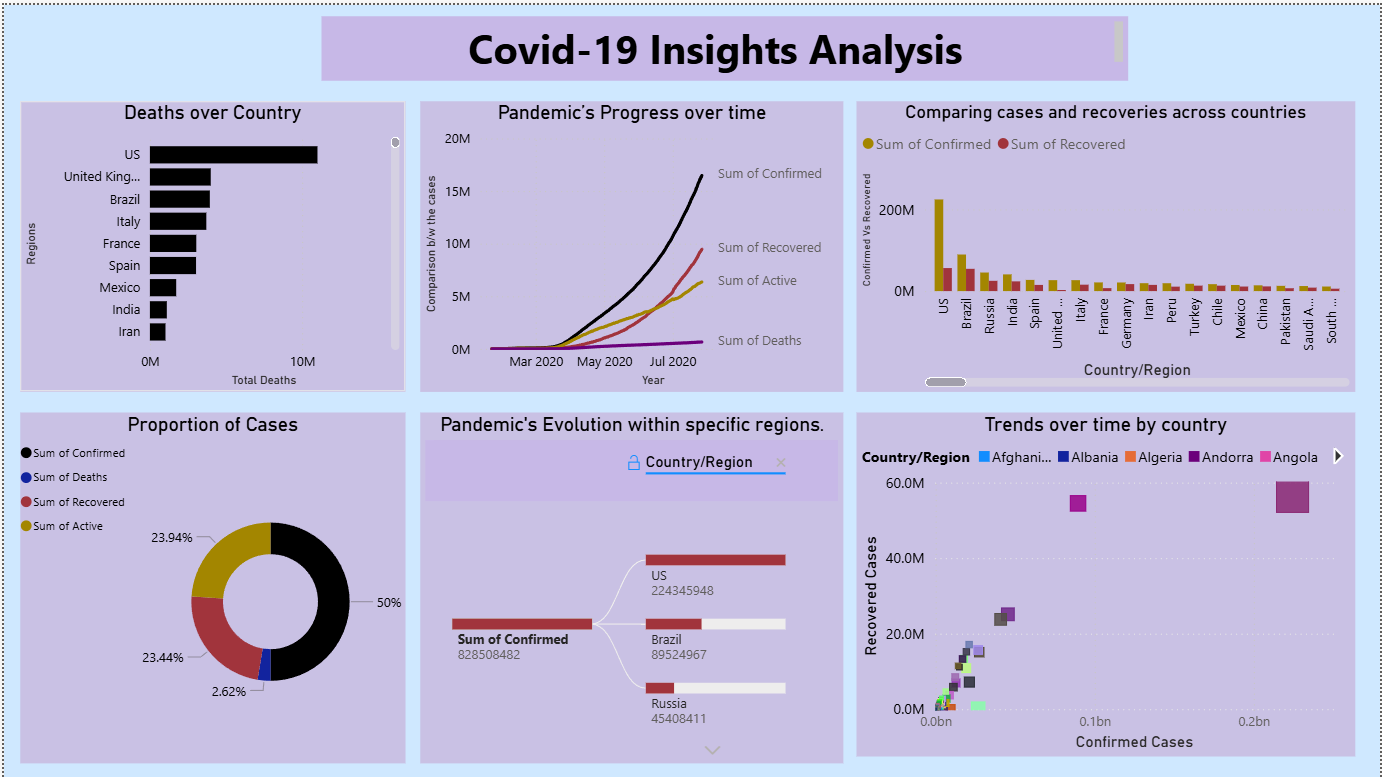

The dashboard page shown, as its layout file describes it:
{"tool":"powerbi","page":{"name":"Page 1","canvas":[1280,720],"ordinal":0},"visuals":[{"type":"lineChart","title":"Pandemic’s Progress over time","fields":{"Y":["Sum(covid_19_clean_complete.Confirmed)","Sum(covid_19_clean_complete.Recovered)","Sum(covid_19_clean_complete.Active)","Sum(covid_19_clean_complete.Deaths)"],"Category":["covid_19_clean_complete.Date.Variation.Date Hierarchy.Year","covid_19_clean_complete.Date.Variation.Date Hierarchy.Quarter","covid_19_clean_complete.Date.Variation.Date Hierarchy.Month","covid_19_clean_complete.Date.Variation.Date Hierarchy.Day"]},"box":[387,89.2,393.8,270.3],"z":0},{"type":"donutChart","title":"Proportion of Cases","fields":{"Y":["Sum(covid_19_clean_complete.Confirmed)","Sum(covid_19_clean_complete.Deaths)","Sum(covid_19_clean_complete.Recovered)","Sum(covid_19_clean_complete.Active)"]},"box":[15.1,378.7,358.1,326.6],"z":1000},{"type":"clusteredBarChart","title":"Deaths over Country","fields":{"Category":["covid_19_clean_complete.Country/Region"],"Y":["Sum(covid_19_clean_complete.Deaths)"]},"box":[15.1,89.2,358.1,270.3],"z":2000},{"type":"decompositionTreeVisual","title":"Pandemic''s Evolution within specific regions.","fields":{"Analyze":["Sum(covid_19_clean_complete.Confirmed)"],"ExplainBy":["covid_19_clean_complete.Country/Region"]},"box":[387,378.7,393.8,326.6],"z":3000},{"type":"scatterChart","title":"Trends over time by country ","fields":{"Size":["Sum(covid_19_clean_complete.Active)"],"X":["Sum(covid_19_clean_complete.Confirmed)"],"Series":["covid_19_clean_complete.Country/Region"],"Y":["Sum(covid_19_clean_complete.Recovered)"]},"box":[793.1,378.7,463.8,319.7],"z":4000},{"type":"clusteredColumnChart","title":"Comparing cases and recoveries across countries","fields":{"Category":["covid_19_clean_complete.Country/Region"],"Y":["Sum(covid_19_clean_complete.Confirmed)","Sum(covid_19_clean_complete.Recovered)"]},"box":[793.1,89.2,463.8,270.3],"z":5000},{"type":"textbox","box":[295,11,750.6,60.4],"z":6000}]}

Visuals, with their boxes in screenshot pixels (x1, y1, x2, y2), scaled from the page's 1280x720 canvas onto the 1382x777 screenshot:
"Pandemic’s Progress over time" lineChart: (left=418, top=96, right=843, bottom=388)
"Proportion of Cases" donutChart: (left=16, top=409, right=403, bottom=761)
"Deaths over Country" clusteredBarChart: (left=16, top=96, right=403, bottom=388)
"Pandemic''s Evolution within specific regions." decompositionTreeVisual: (left=418, top=409, right=843, bottom=761)
"Trends over time by country " scatterChart: (left=856, top=409, right=1357, bottom=754)
"Comparing cases and recoveries across countries" clusteredColumnChart: (left=856, top=96, right=1357, bottom=388)
textbox: (left=319, top=12, right=1129, bottom=77)
